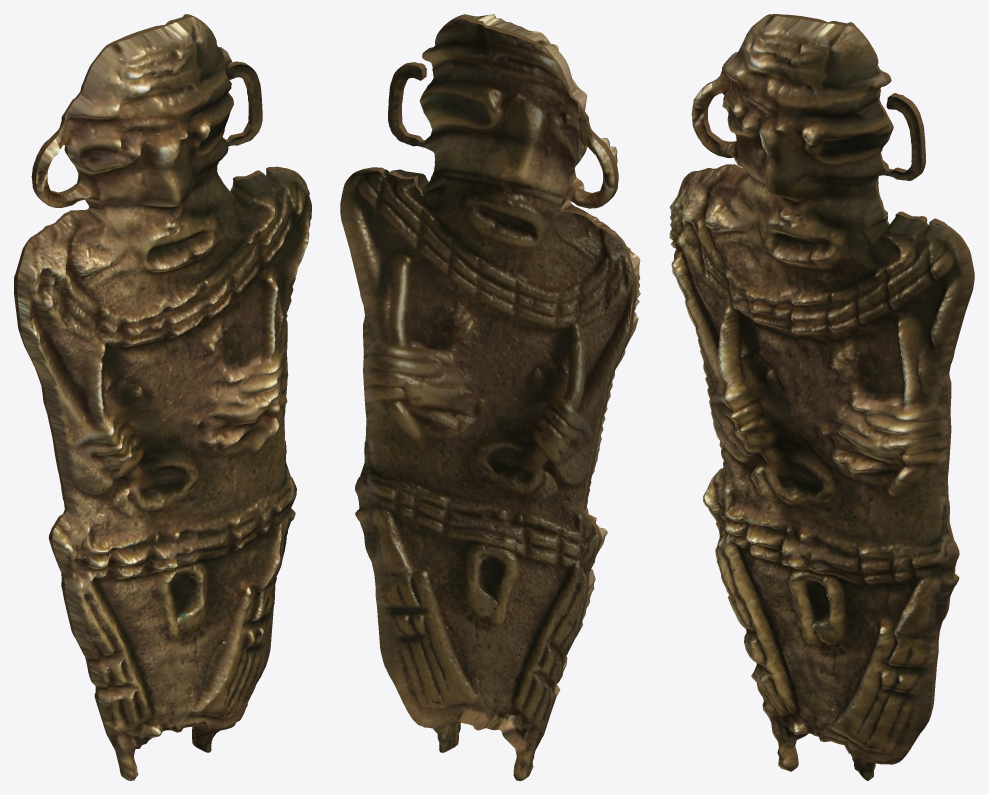
Rendered from figura_femenina_tunjo.glb.
3 views of the same model, side by side, from view 1: azimuth 30°, elevation 25°; view 2: azimuth 150°, elevation 25°; view 3: azimuth 330°, elevation 25° (orthographic).
Visible parts, largest first — view 1: figura_femenina_tunjo; view 2: figura_femenina_tunjo; view 3: figura_femenina_tunjo.
Part boxes in pixels (x1,y1,x2,y2): figura_femenina_tunjo: (14, 14, 311, 780); figura_femenina_tunjo: (340, 14, 640, 780); figura_femenina_tunjo: (669, 14, 974, 780).
Size of the model in its own units: 3.72 by 9.09 by 0.8777.
1 material, 1 textured.
